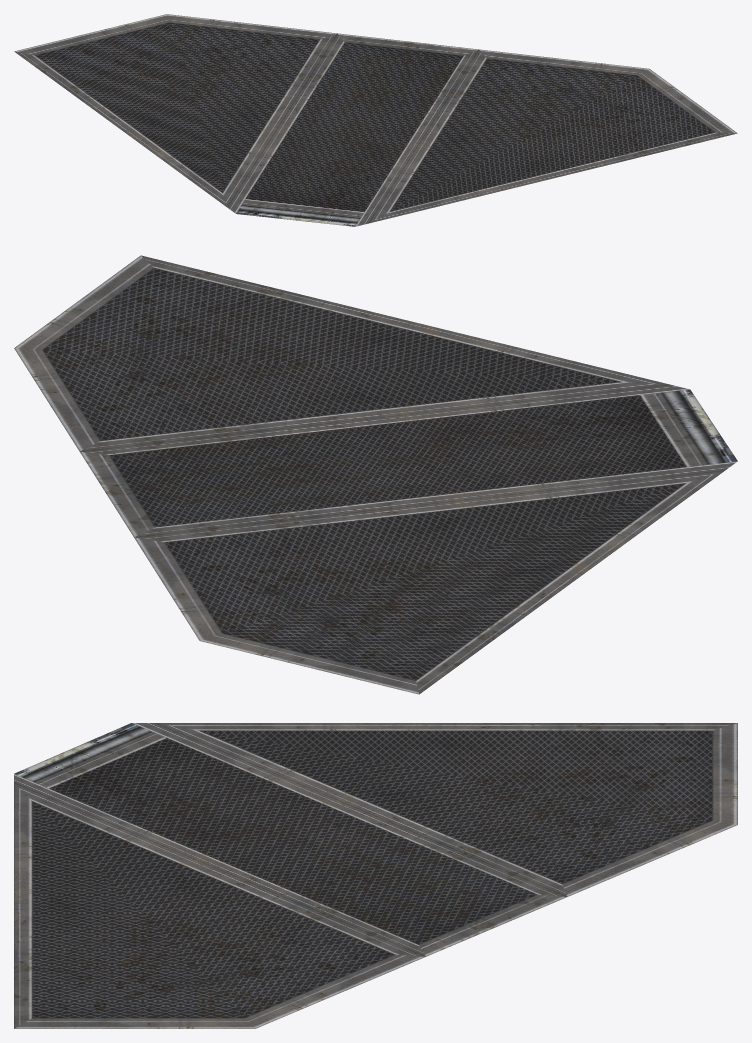
The model's file is Floor_A_5mts_01.fbx.
The picture shows the model from 3 angles, top to bottom: view 1: azimuth 30°, elevation 25°; view 2: azimuth 150°, elevation 25°; view 3: azimuth 270°, elevation 25°; orthographic projection. The views are drawn at different scales.
Visible parts, largest first — view 1: Floor_A_5mts_01; view 2: Floor_A_5mts_01; view 3: Floor_A_5mts_01.
Part boxes in pixels (box(x1,y1,x2,y2)): Floor_A_5mts_01: box(14, 14, 737, 226); Floor_A_5mts_01: box(14, 255, 737, 694); Floor_A_5mts_01: box(14, 723, 737, 1028).
Bounding box in the file's own units: 300 × 5.6e-05 × 300.
1 material, 1 textured.
